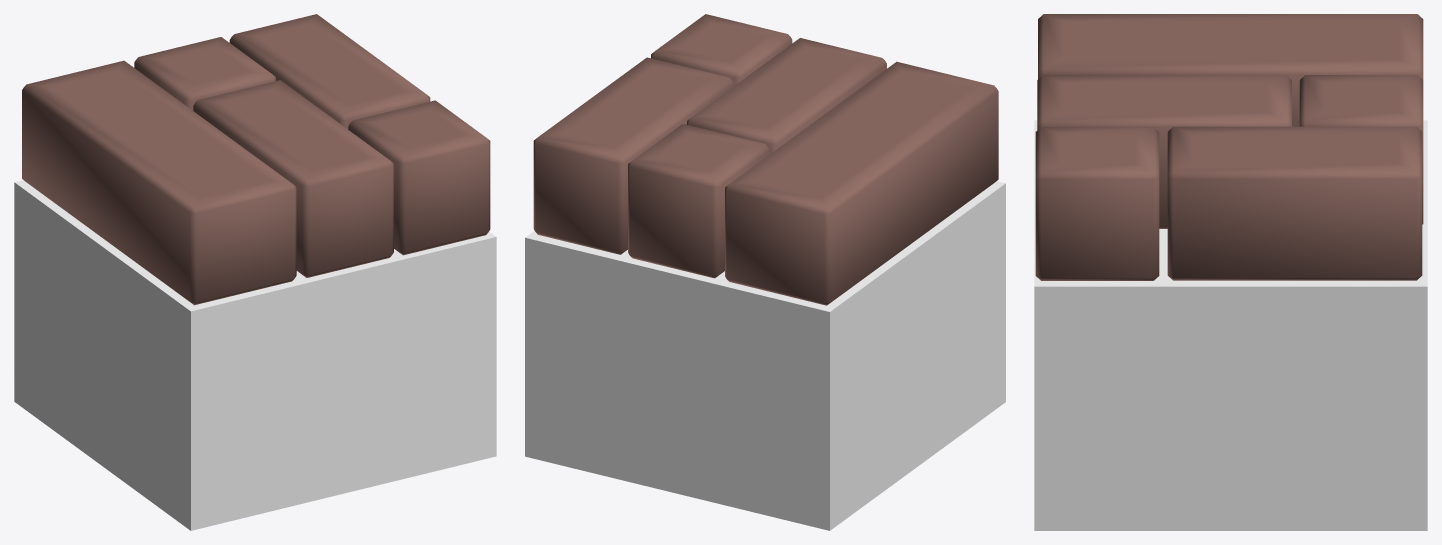
Rendered from Floor8.fbx.
The picture shows the model from 3 angles, left to right: view 1: azimuth 30°, elevation 25°; view 2: azimuth 150°, elevation 25°; view 3: azimuth 270°, elevation 25°; orthographic projection. The views are drawn at different scales.
Parts seen in each view (by area): view 1: Cube.307; view 2: Cube.307; view 3: Cube.307.
Part boxes in pixels (box(x1,y1,x2,y2)): Cube.307: box(14, 14, 496, 530); Cube.307: box(525, 14, 1005, 530); Cube.307: box(1034, 14, 1427, 530).
Size of the model in its own units: 100 by 99.65 by 100.
